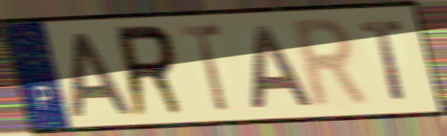A: (249, 22, 315, 112), (69, 30, 135, 119)
R: (290, 14, 375, 113), (112, 21, 190, 122)
T: (177, 22, 233, 116), (356, 18, 410, 104)
